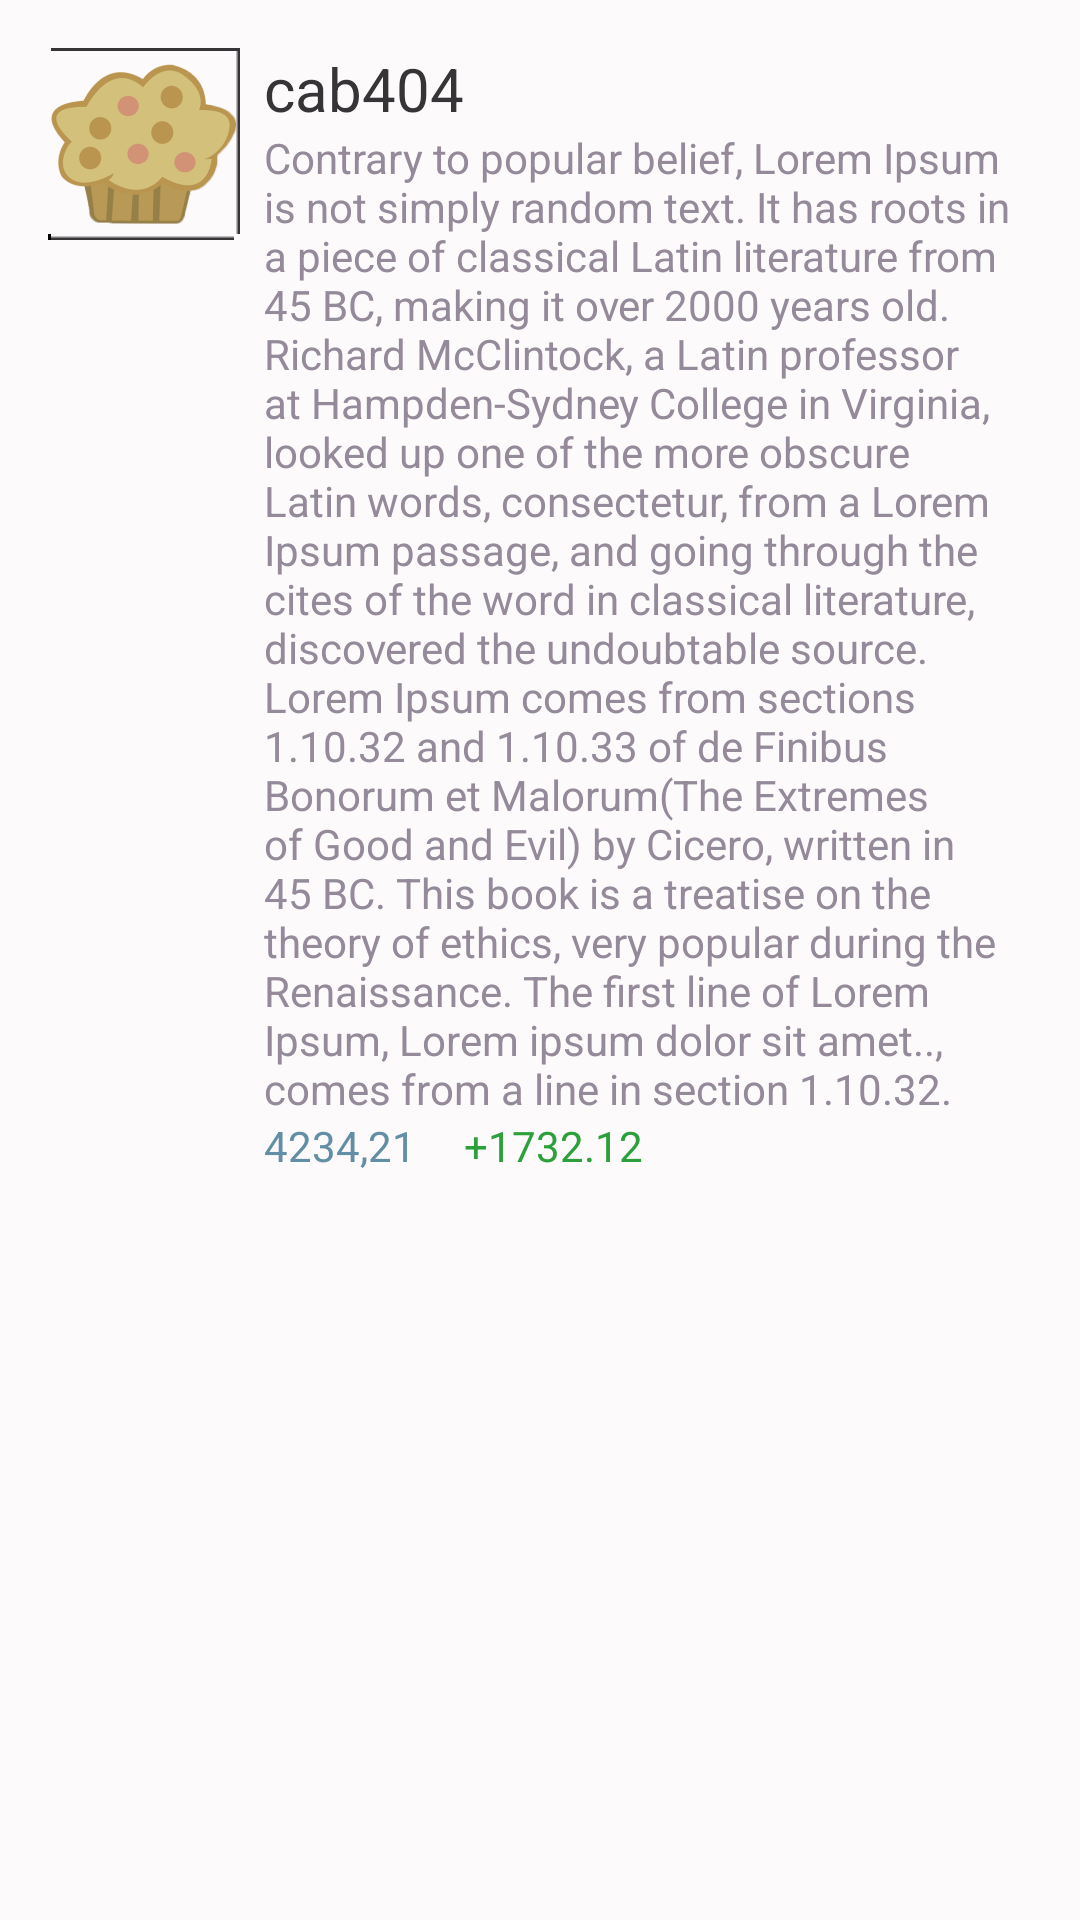

Where icons sit on this 1080 × 1920 app screen, as (x1, y1, x2, y2):
muffin: (48, 48, 240, 240)
